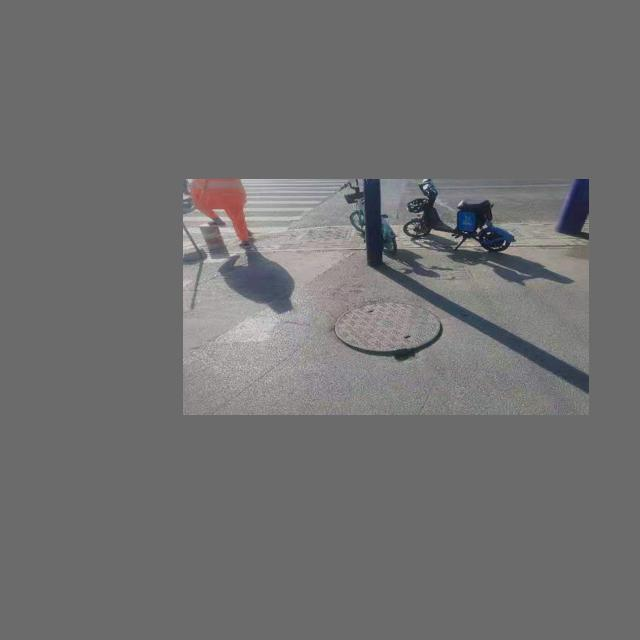uncovered: (334, 302, 444, 357)
